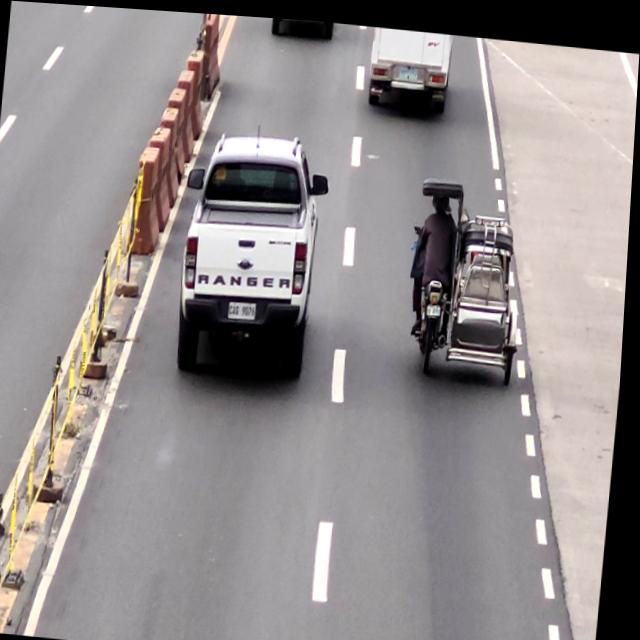Car: (172, 124, 334, 383), (368, 21, 453, 108)
License-Plate: (230, 296, 260, 319), (398, 60, 419, 77), (429, 297, 444, 311)
Tricycle: (406, 169, 534, 378)
